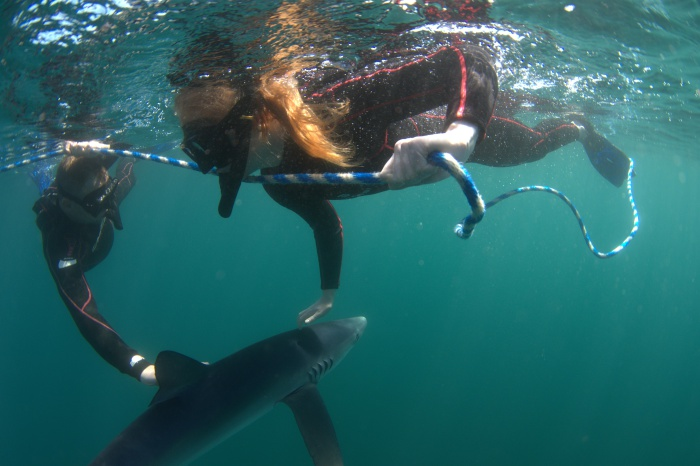Azul: (89, 307, 395, 466)
